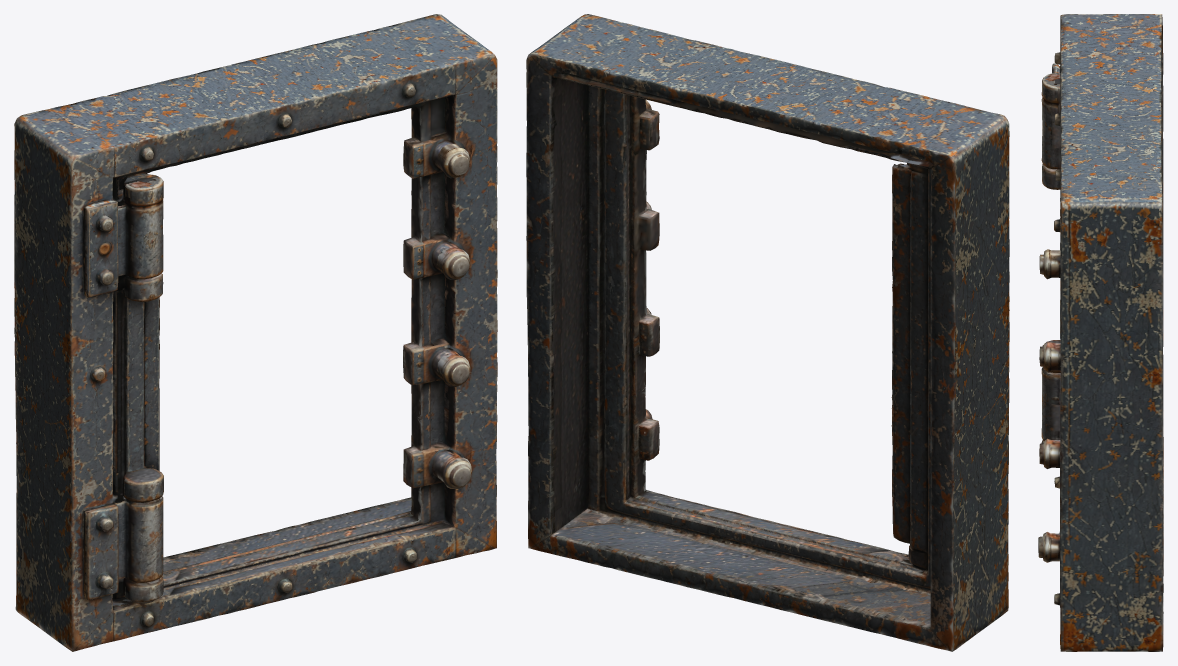
Rendered from BKI_VaultFrame.fbx.
The picture shows the model from 3 angles, left to right: view 1: azimuth 30°, elevation 25°; view 2: azimuth 150°, elevation 25°; view 3: azimuth 270°, elevation 25°; orthographic projection. The views are drawn at different scales.
Parts seen in each view (by area): view 1: texture_mapping; view 2: texture_mapping; view 3: texture_mapping.
Boxes of the visible parts, left/top/right/bottom form: texture_mapping: left=14, top=14, right=497, bottom=651; texture_mapping: left=526, top=14, right=1009, bottom=651; texture_mapping: left=1038, top=14, right=1163, bottom=651.
Size of the model in its own units: 0.9057 by 0.252 by 1.
Materials: 1 (1 with a texture image).
